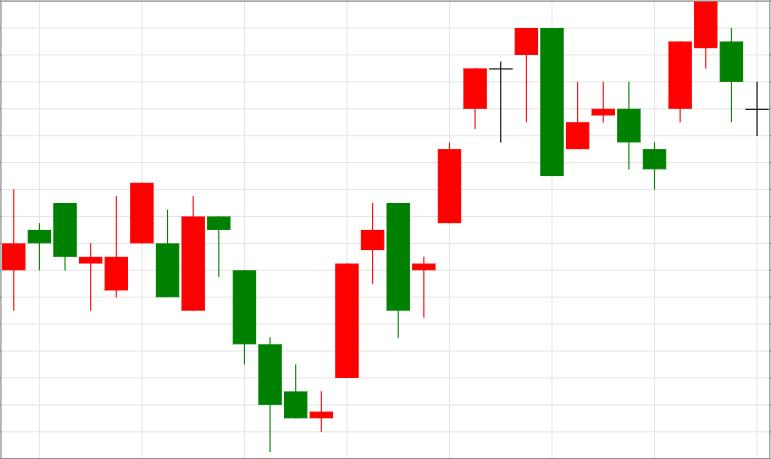bearish_engulfing_fall: (310, 28, 564, 431)
hanging_man_fall: (310, 28, 537, 432)
